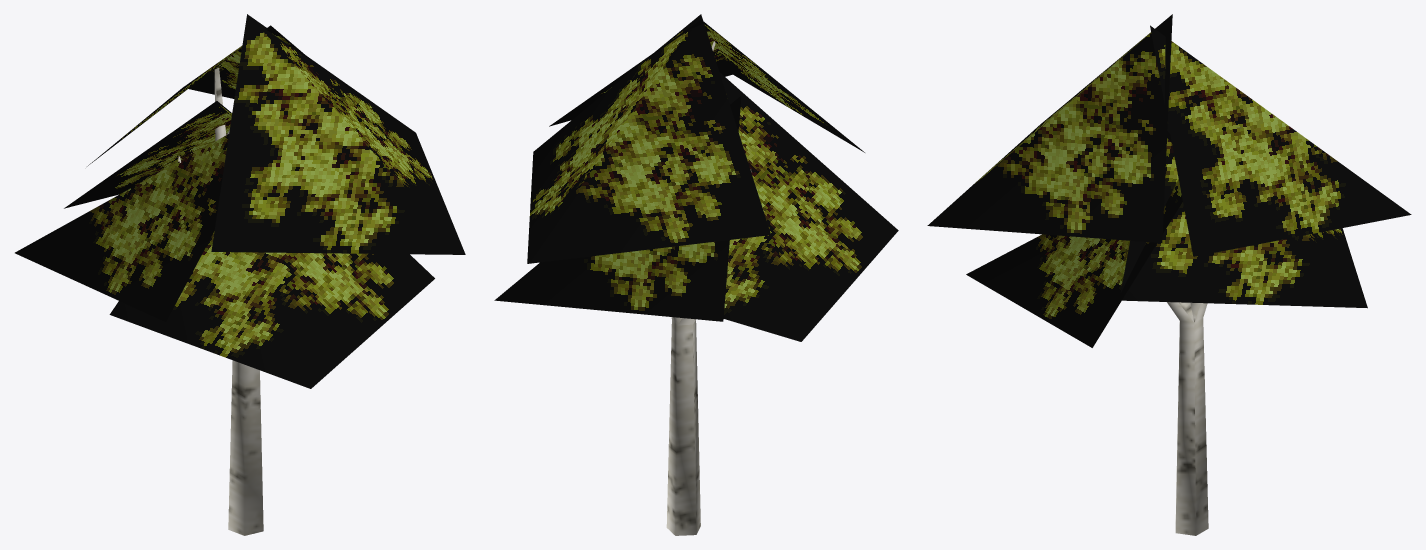
The model's file is birch_0.obj.
3 renders of one model, left to right at view 1: azimuth 30°, elevation 25°; view 2: azimuth 150°, elevation 25°; view 3: azimuth 270°, elevation 25°, orthographic. The views are drawn at different scales.
Parts seen in each view (by area): view 1: birch_0; view 2: birch_0; view 3: birch_0.
Boxes of the visible parts, x1=… form: birch_0: x1=15, y1=14, x2=465, y2=535; birch_0: x1=494, y1=14, x2=898, y2=535; birch_0: x1=927, y1=14, x2=1411, y2=535.
Size of the model in its own units: 3.26 by 4.91 by 4.22.
